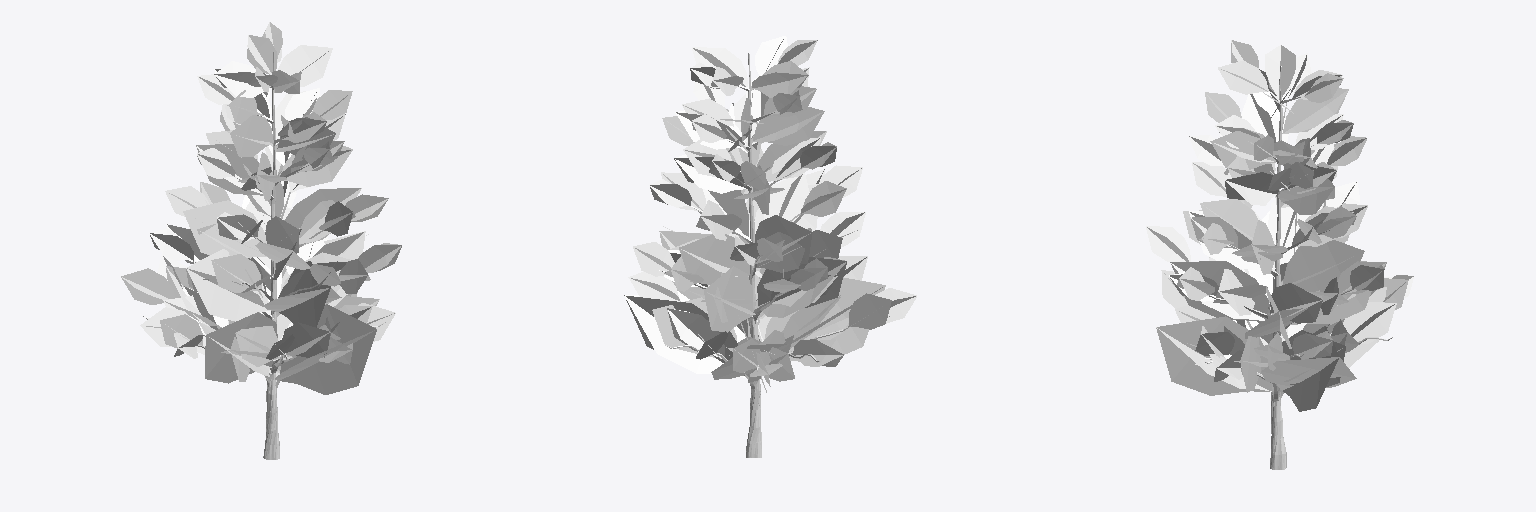
File: elm_tree_v1.obj
3 views of the same model, side by side, from view 1: azimuth 30°, elevation 25°; view 2: azimuth 150°, elevation 25°; view 3: azimuth 270°, elevation 25° (orthographic).
Parts seen in each view (by area): view 1: tree; view 2: tree; view 3: tree.
Boxes of the visible parts, x1=… form: tree: x1=121, y1=22, x2=401, y2=459; tree: x1=624, y1=36, x2=916, y2=457; tree: x1=1146, y1=40, x2=1413, y2=469.
Size of the model in its own units: 385 by 658 by 393.